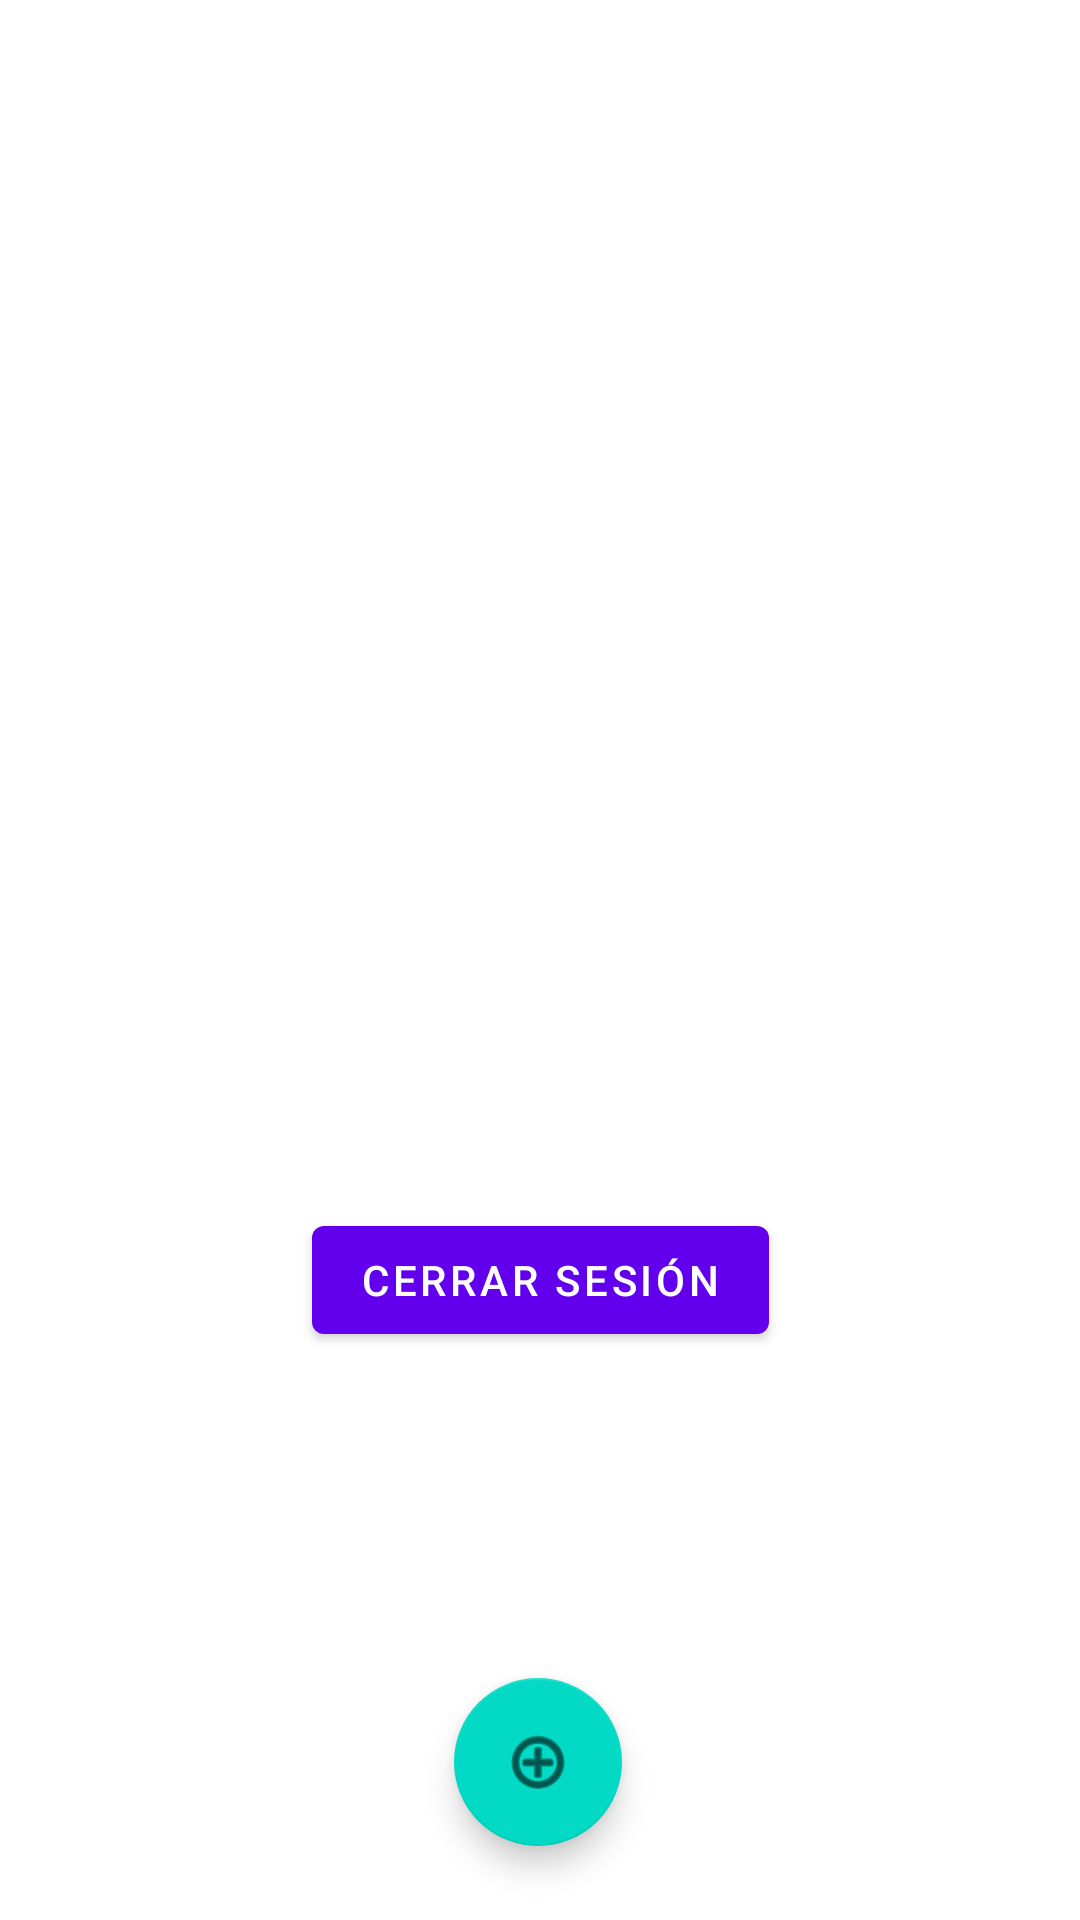

Named icons in this screenshot (1080x1920) and their centers, point (x, y):
add: point (538, 1762)
